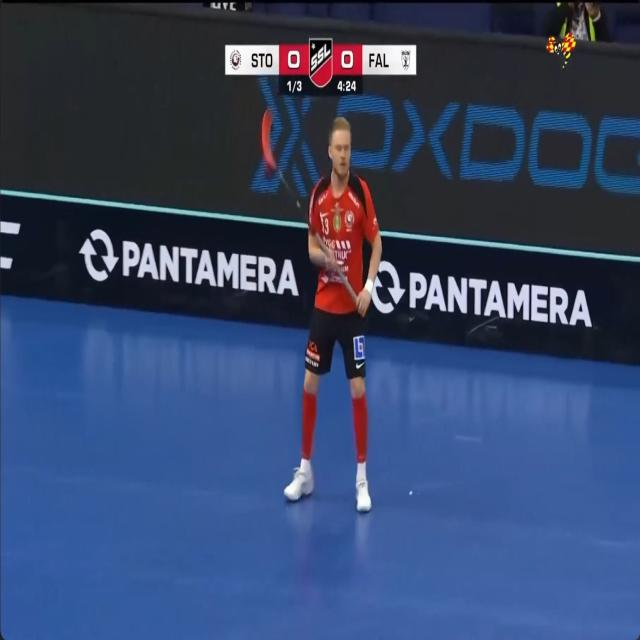player: (284, 116, 381, 510)
stick: (262, 110, 304, 212)
